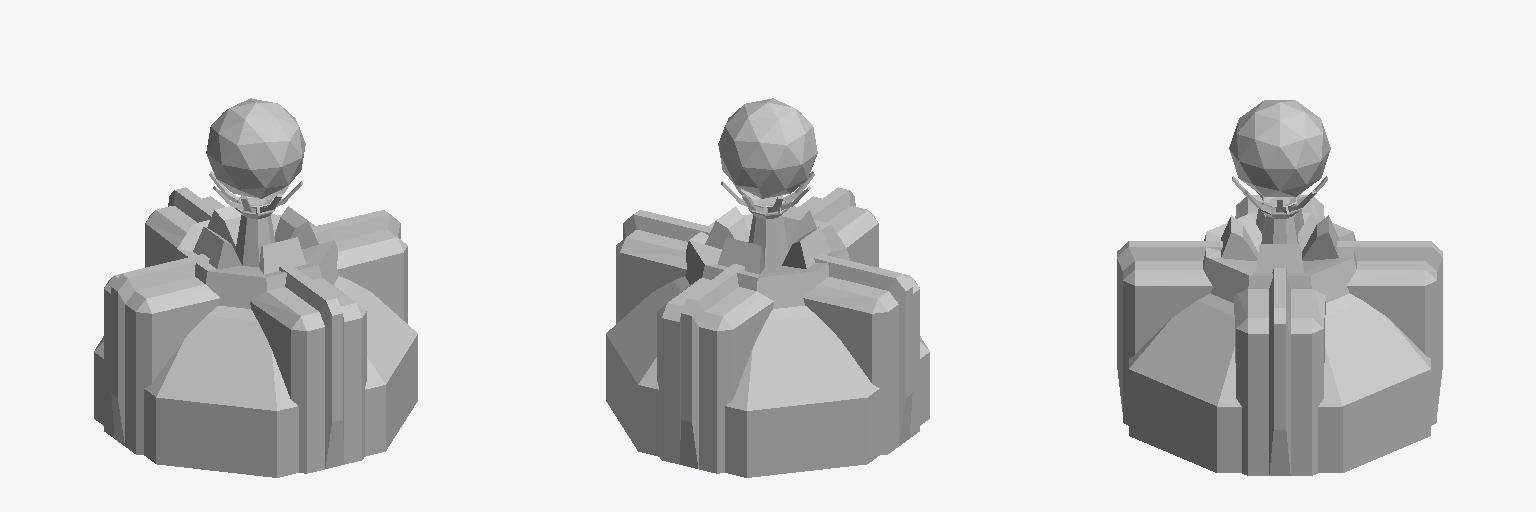
The model's file is energyStation.obj.
3 views of the same model, side by side, from view 1: azimuth 30°, elevation 25°; view 2: azimuth 150°, elevation 25°; view 3: azimuth 270°, elevation 25° (orthographic).
Parts seen in each view (by area): view 1: Cube; view 2: Cube; view 3: Cube.
Part boxes in pixels (x1,y1,x2,y2): Cube: (94, 98, 417, 477); Cube: (606, 98, 929, 477); Cube: (1117, 100, 1442, 475).
Bounding box in the file's own units: 4.01 × 4.16 × 4.01.